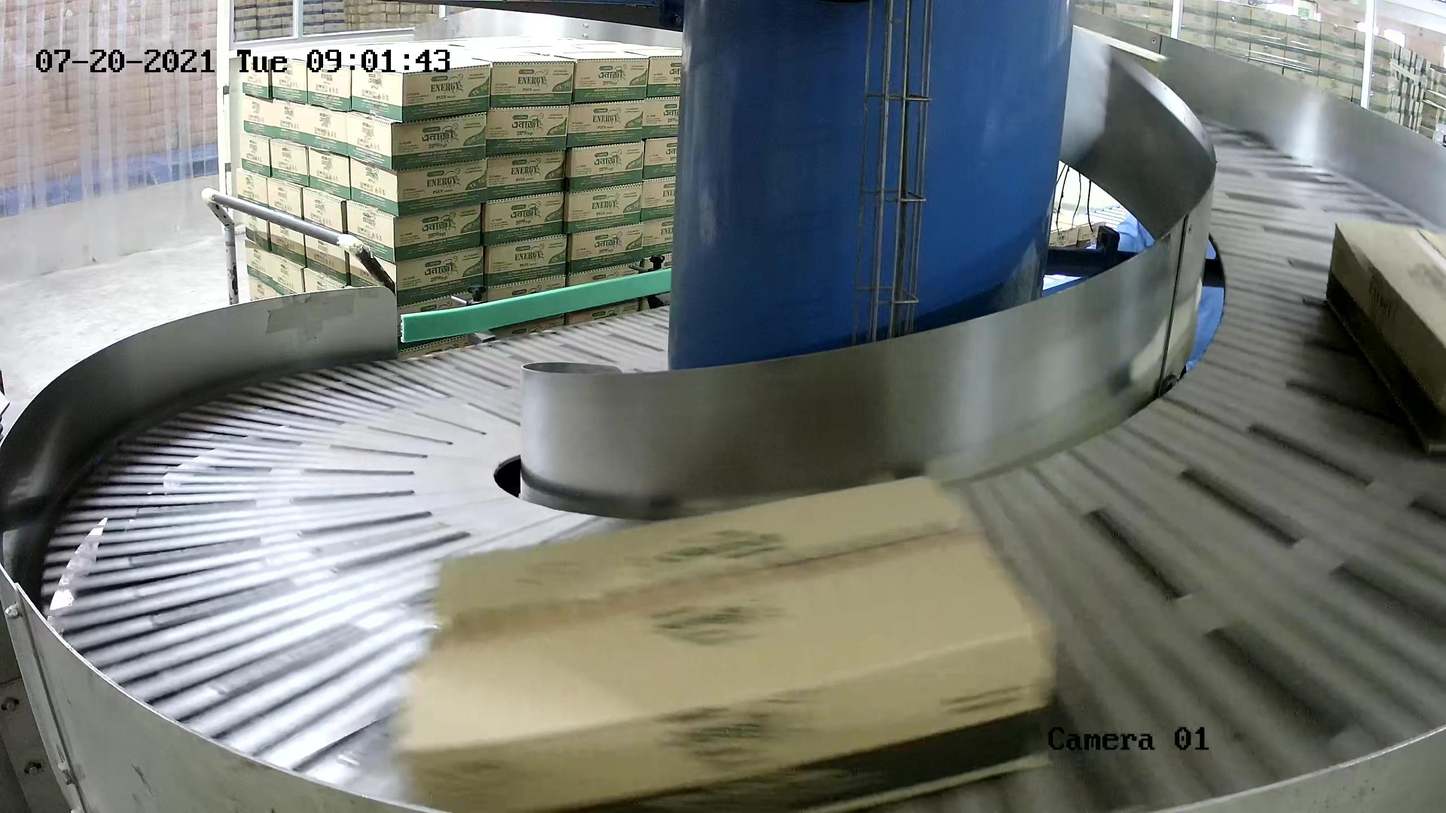Box: (392, 472, 1057, 813), (1324, 220, 1446, 453)
